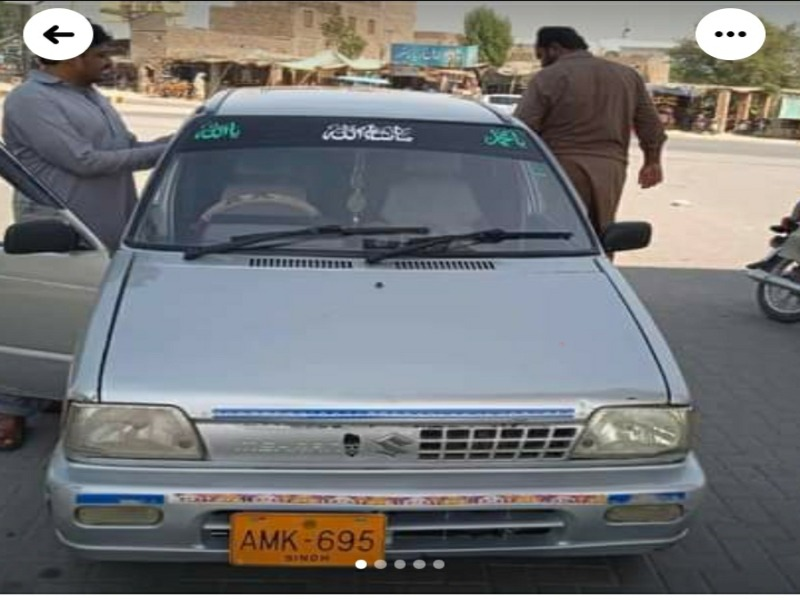License Plate: (227, 507, 389, 571)
